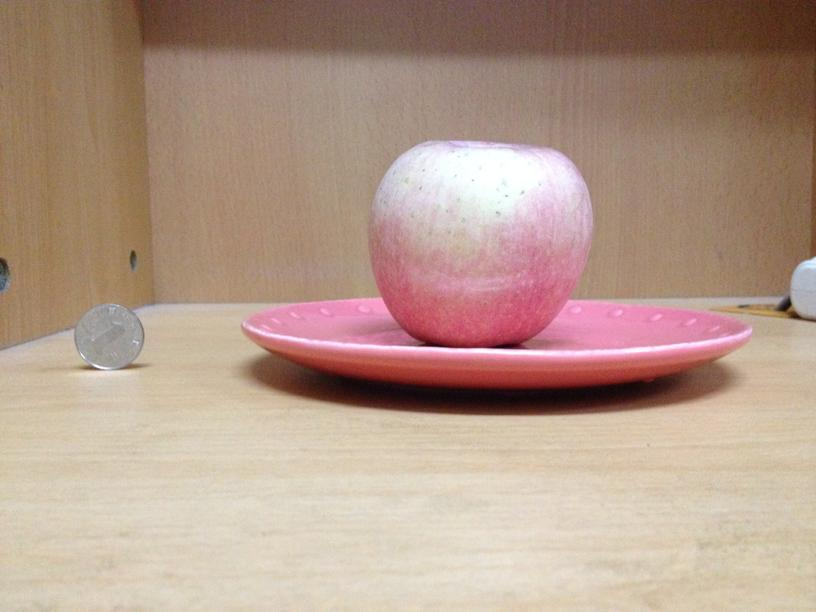apple: (366, 139, 592, 348)
coin: (70, 303, 145, 370)
